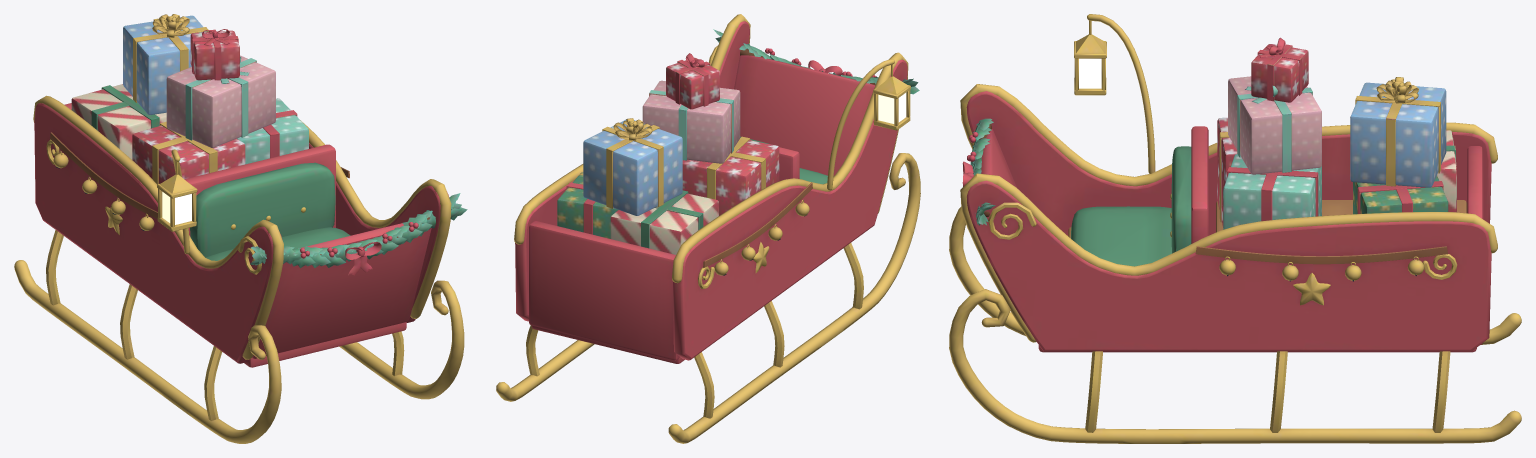
Rendered from sleigh.glb.
The picture shows the model from 3 angles, left to right: view 1: azimuth 30°, elevation 25°; view 2: azimuth 150°, elevation 25°; view 3: azimuth 270°, elevation 25°; orthographic projection. The views are drawn at different scales.
Visible parts, largest first — view 1: sleigh_body, sleigh_lantern_glow; view 2: sleigh_body, sleigh_lantern_glow; view 3: sleigh_body, sleigh_lantern_glow.
Boxes of the visible parts, x1,y1,x2,y2 form: sleigh_body: [14, 14, 467, 443]; sleigh_lantern_glow: [162, 192, 191, 224]; sleigh_body: [496, 14, 920, 443]; sleigh_lantern_glow: [878, 92, 906, 123]; sleigh_body: [949, 14, 1521, 443]; sleigh_lantern_glow: [1079, 58, 1101, 88].
Bounding box in the file's own units: 1.3 × 1.56 × 2.33.
Materials: 2 (1 with a texture image).
